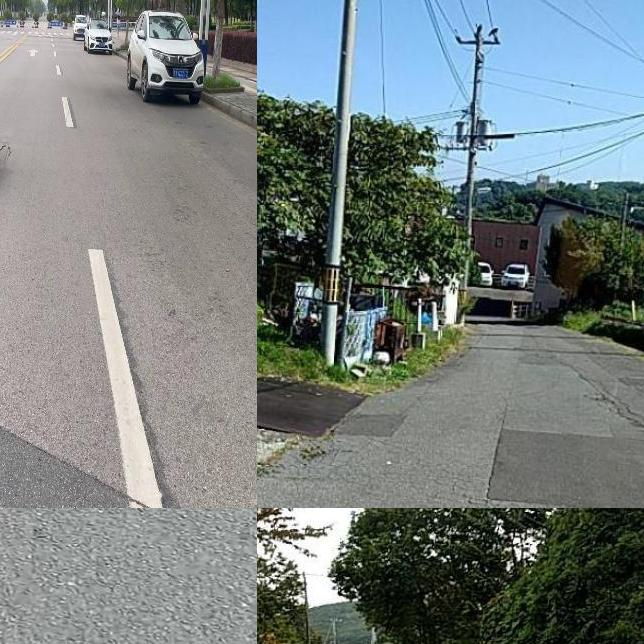Sambungan: (0, 413, 171, 508), (483, 428, 644, 508)
